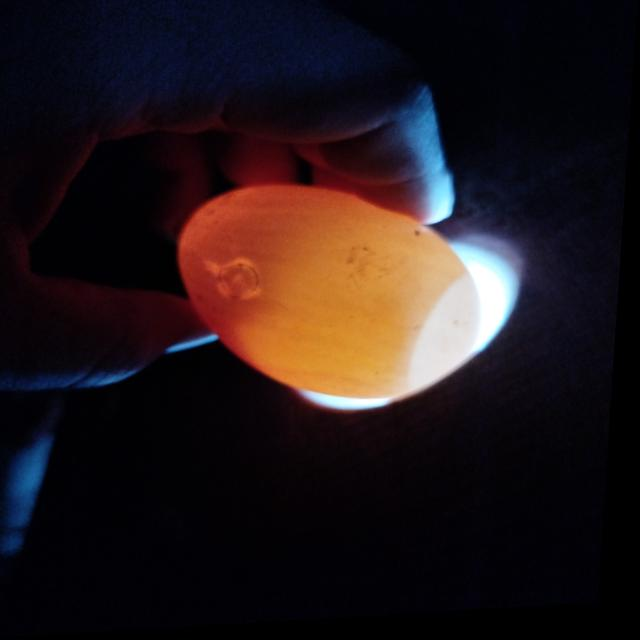Camara de Ar: (414, 283, 485, 394)
Rachadura: (224, 268, 261, 300)
